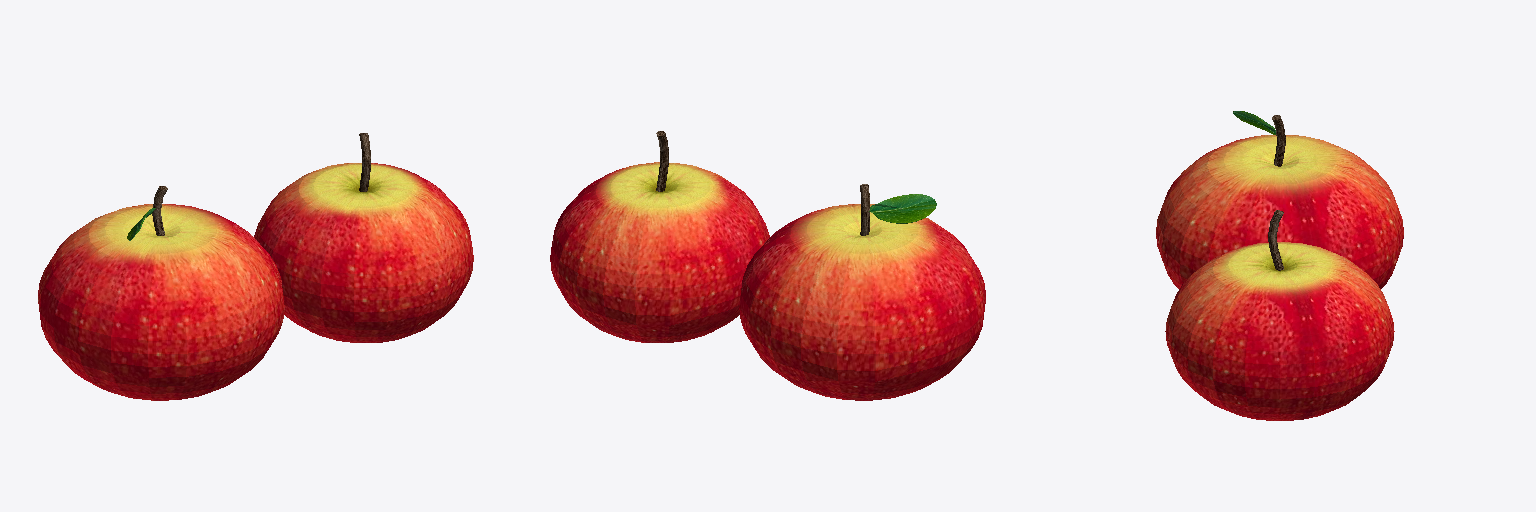
3 views of the same model, side by side, from view 1: azimuth 30°, elevation 25°; view 2: azimuth 150°, elevation 25°; view 3: azimuth 270°, elevation 25° (orthographic).
Visible parts, largest first — view 1: pasted__pSphere1 group, pSphere1, polySurface1 pCylinder3; view 2: pasted__pSphere1 group, pSphere1, group polySurface3 pasted__pCylinder3, polySurface1 pCylinder3; view 3: pSphere1, pasted__pSphere1 group, polySurface1 pCylinder3.
Boxes of the visible parts, x1,y1,x2,y2 form: pasted__pSphere1 group: [38, 204, 284, 400]; pSphere1: [254, 163, 473, 342]; polySurface1 pCylinder3: [359, 133, 370, 191]; pasted__pSphere1 group: [739, 204, 985, 400]; pSphere1: [550, 162, 769, 342]; group polySurface3 pasted__pCylinder3: [869, 194, 936, 223]; polySurface1 pCylinder3: [656, 131, 668, 191]; pSphere1: [1165, 242, 1394, 420]; pasted__pSphere1 group: [1156, 135, 1403, 288]; polySurface1 pCylinder3: [1268, 210, 1283, 270].
Bounding box in the file's own units: 3.76 × 1.72 × 2.
5 materials, 3 textured.